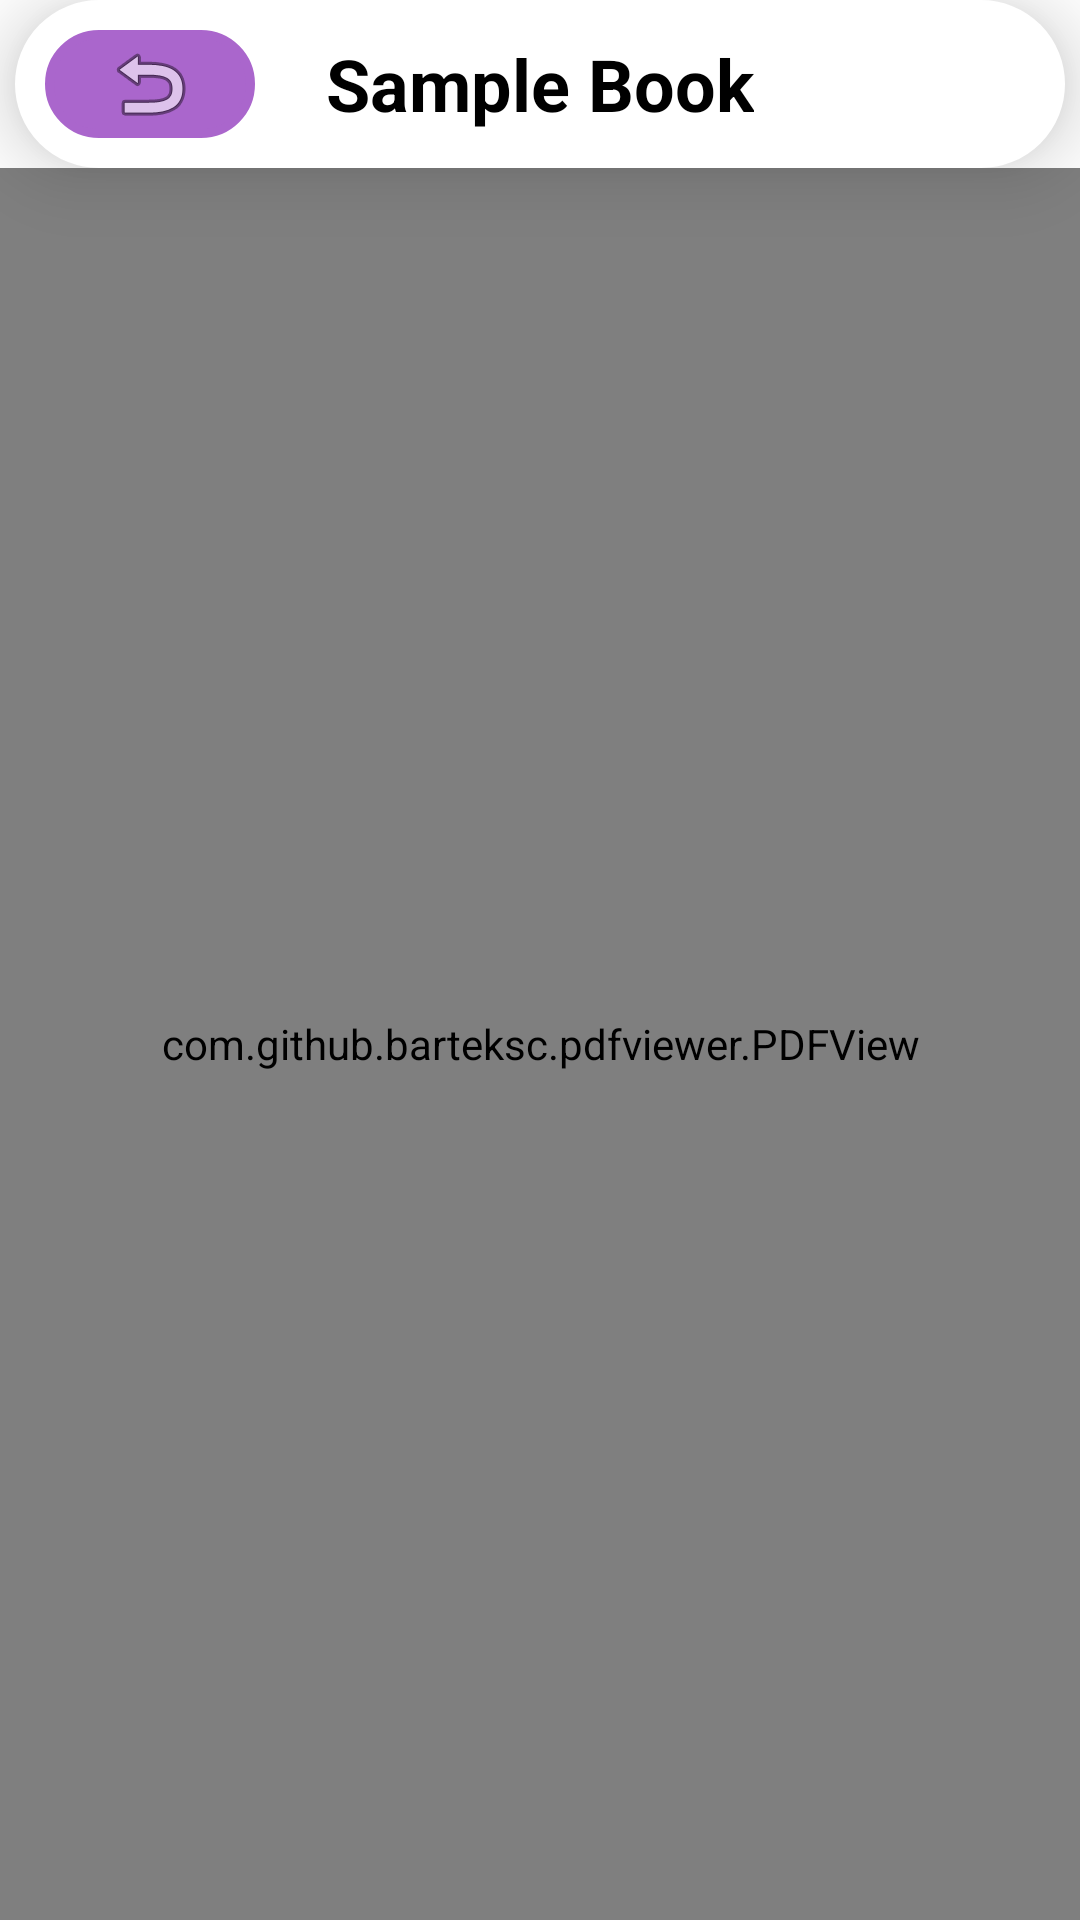

Icon click points for this 1080px×1920px phone screenshot, format [x,y]:
revert: [150,84]
